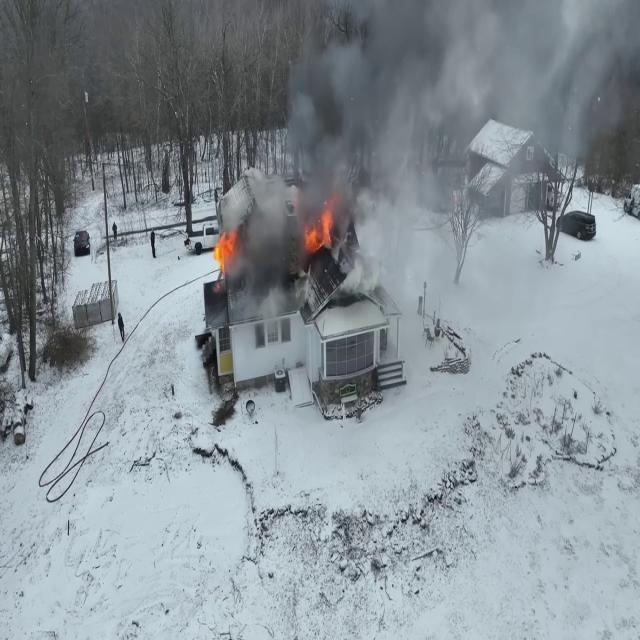Fire: (302, 196, 338, 258), (212, 222, 238, 275)
Smoke: (245, 0, 640, 278)
